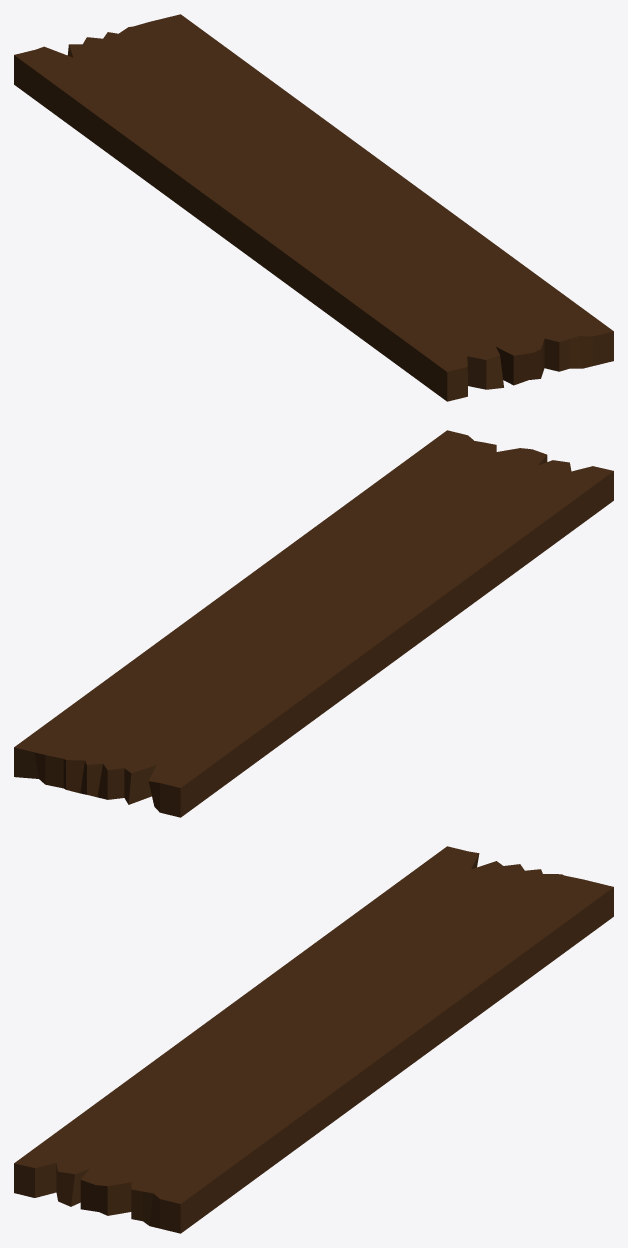
The model's file is Wood Plank 3.fbx.
The picture shows the model from 3 angles, top to bottom: view 1: azimuth 30°, elevation 25°; view 2: azimuth 150°, elevation 25°; view 3: azimuth 330°, elevation 25°; orthographic projection.
Visible parts, largest first — view 1: Cube; view 2: Cube; view 3: Cube.
Boxes of the visible parts, bbox=[...] form: Cube: bbox=[14, 14, 613, 401]; Cube: bbox=[14, 430, 613, 817]; Cube: bbox=[14, 846, 613, 1233].
Size of the model in its own units: 200 by 34.03 by 906.
